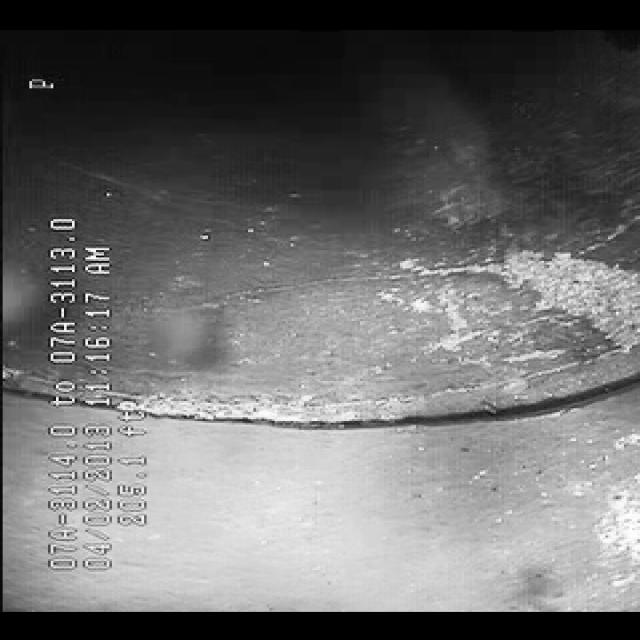Crack: (158, 231, 540, 331)
